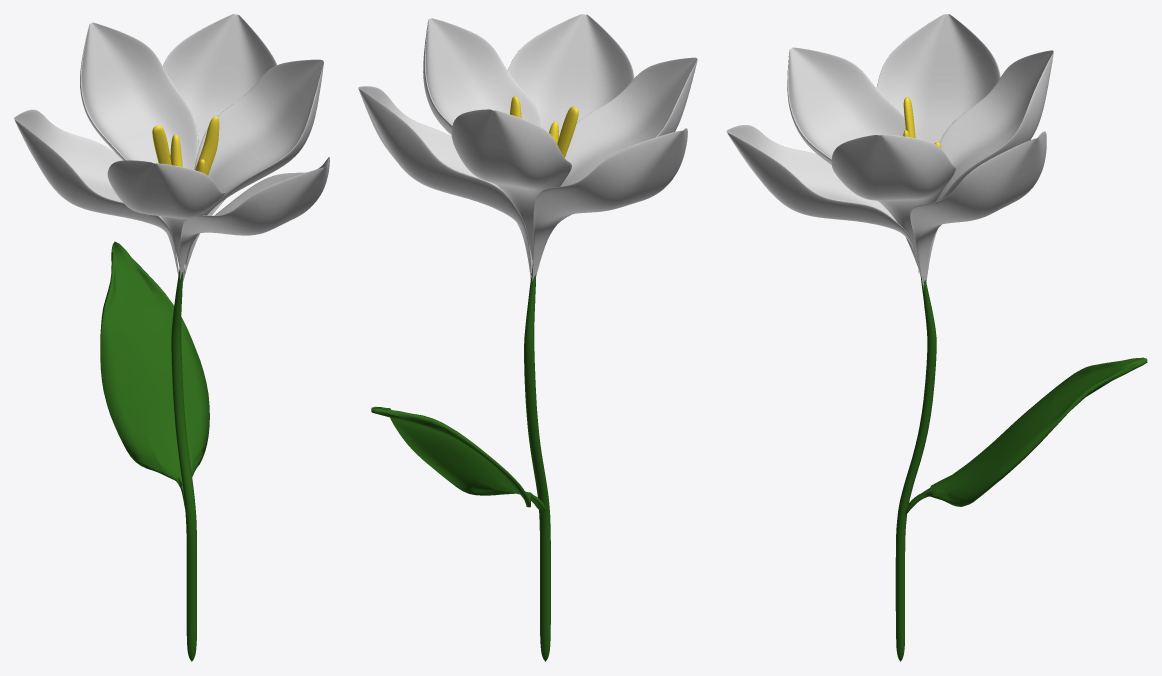
The picture shows the model from 3 angles, left to right: view 1: azimuth 30°, elevation 25°; view 2: azimuth 150°, elevation 25°; view 3: azimuth 270°, elevation 25°; orthographic projection. The views are drawn at different scales.
Parts seen in each view (by area): view 1: f01; view 2: f01; view 3: f01.
Boxes of the visible parts, x1=… form: f01: x1=14, y1=14, x2=329, y2=661; f01: x1=358, y1=14, x2=697, y2=661; f01: x1=726, y1=14, x2=1147, y2=661.
Bounding box in the file's own units: 0.392 × 0.8001 × 0.5105.
